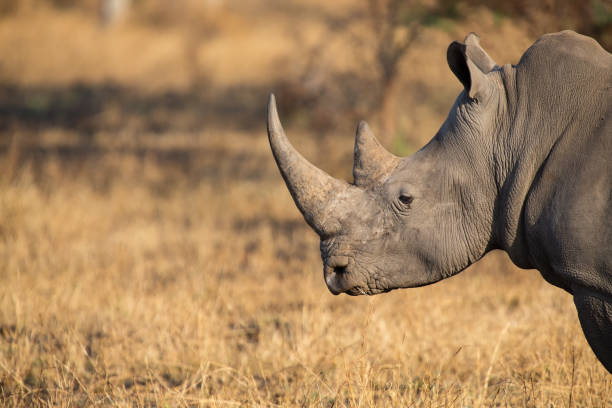rhino: (242, 20, 605, 328)
